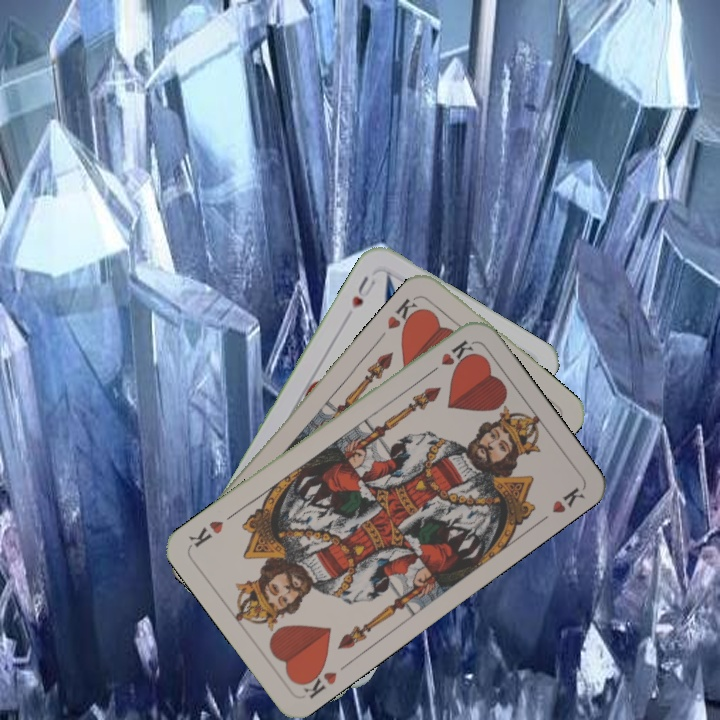HK: (423, 336, 477, 379), (383, 291, 426, 335), (294, 661, 340, 702)
HU: (347, 272, 379, 311)
